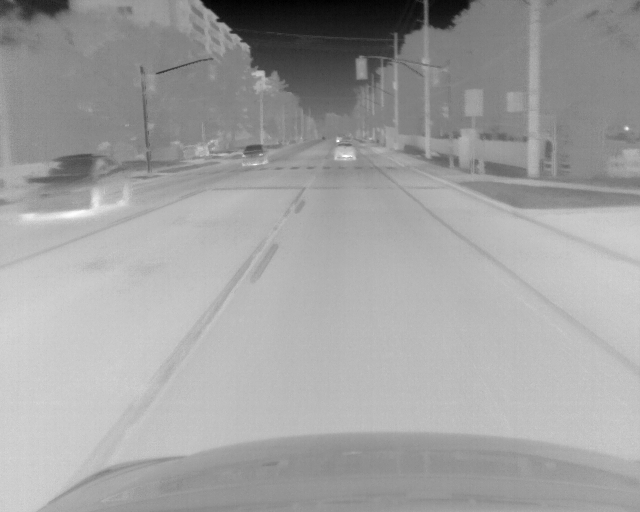car: (18, 154, 132, 214), (240, 144, 269, 168), (333, 142, 356, 161), (334, 136, 345, 143)
